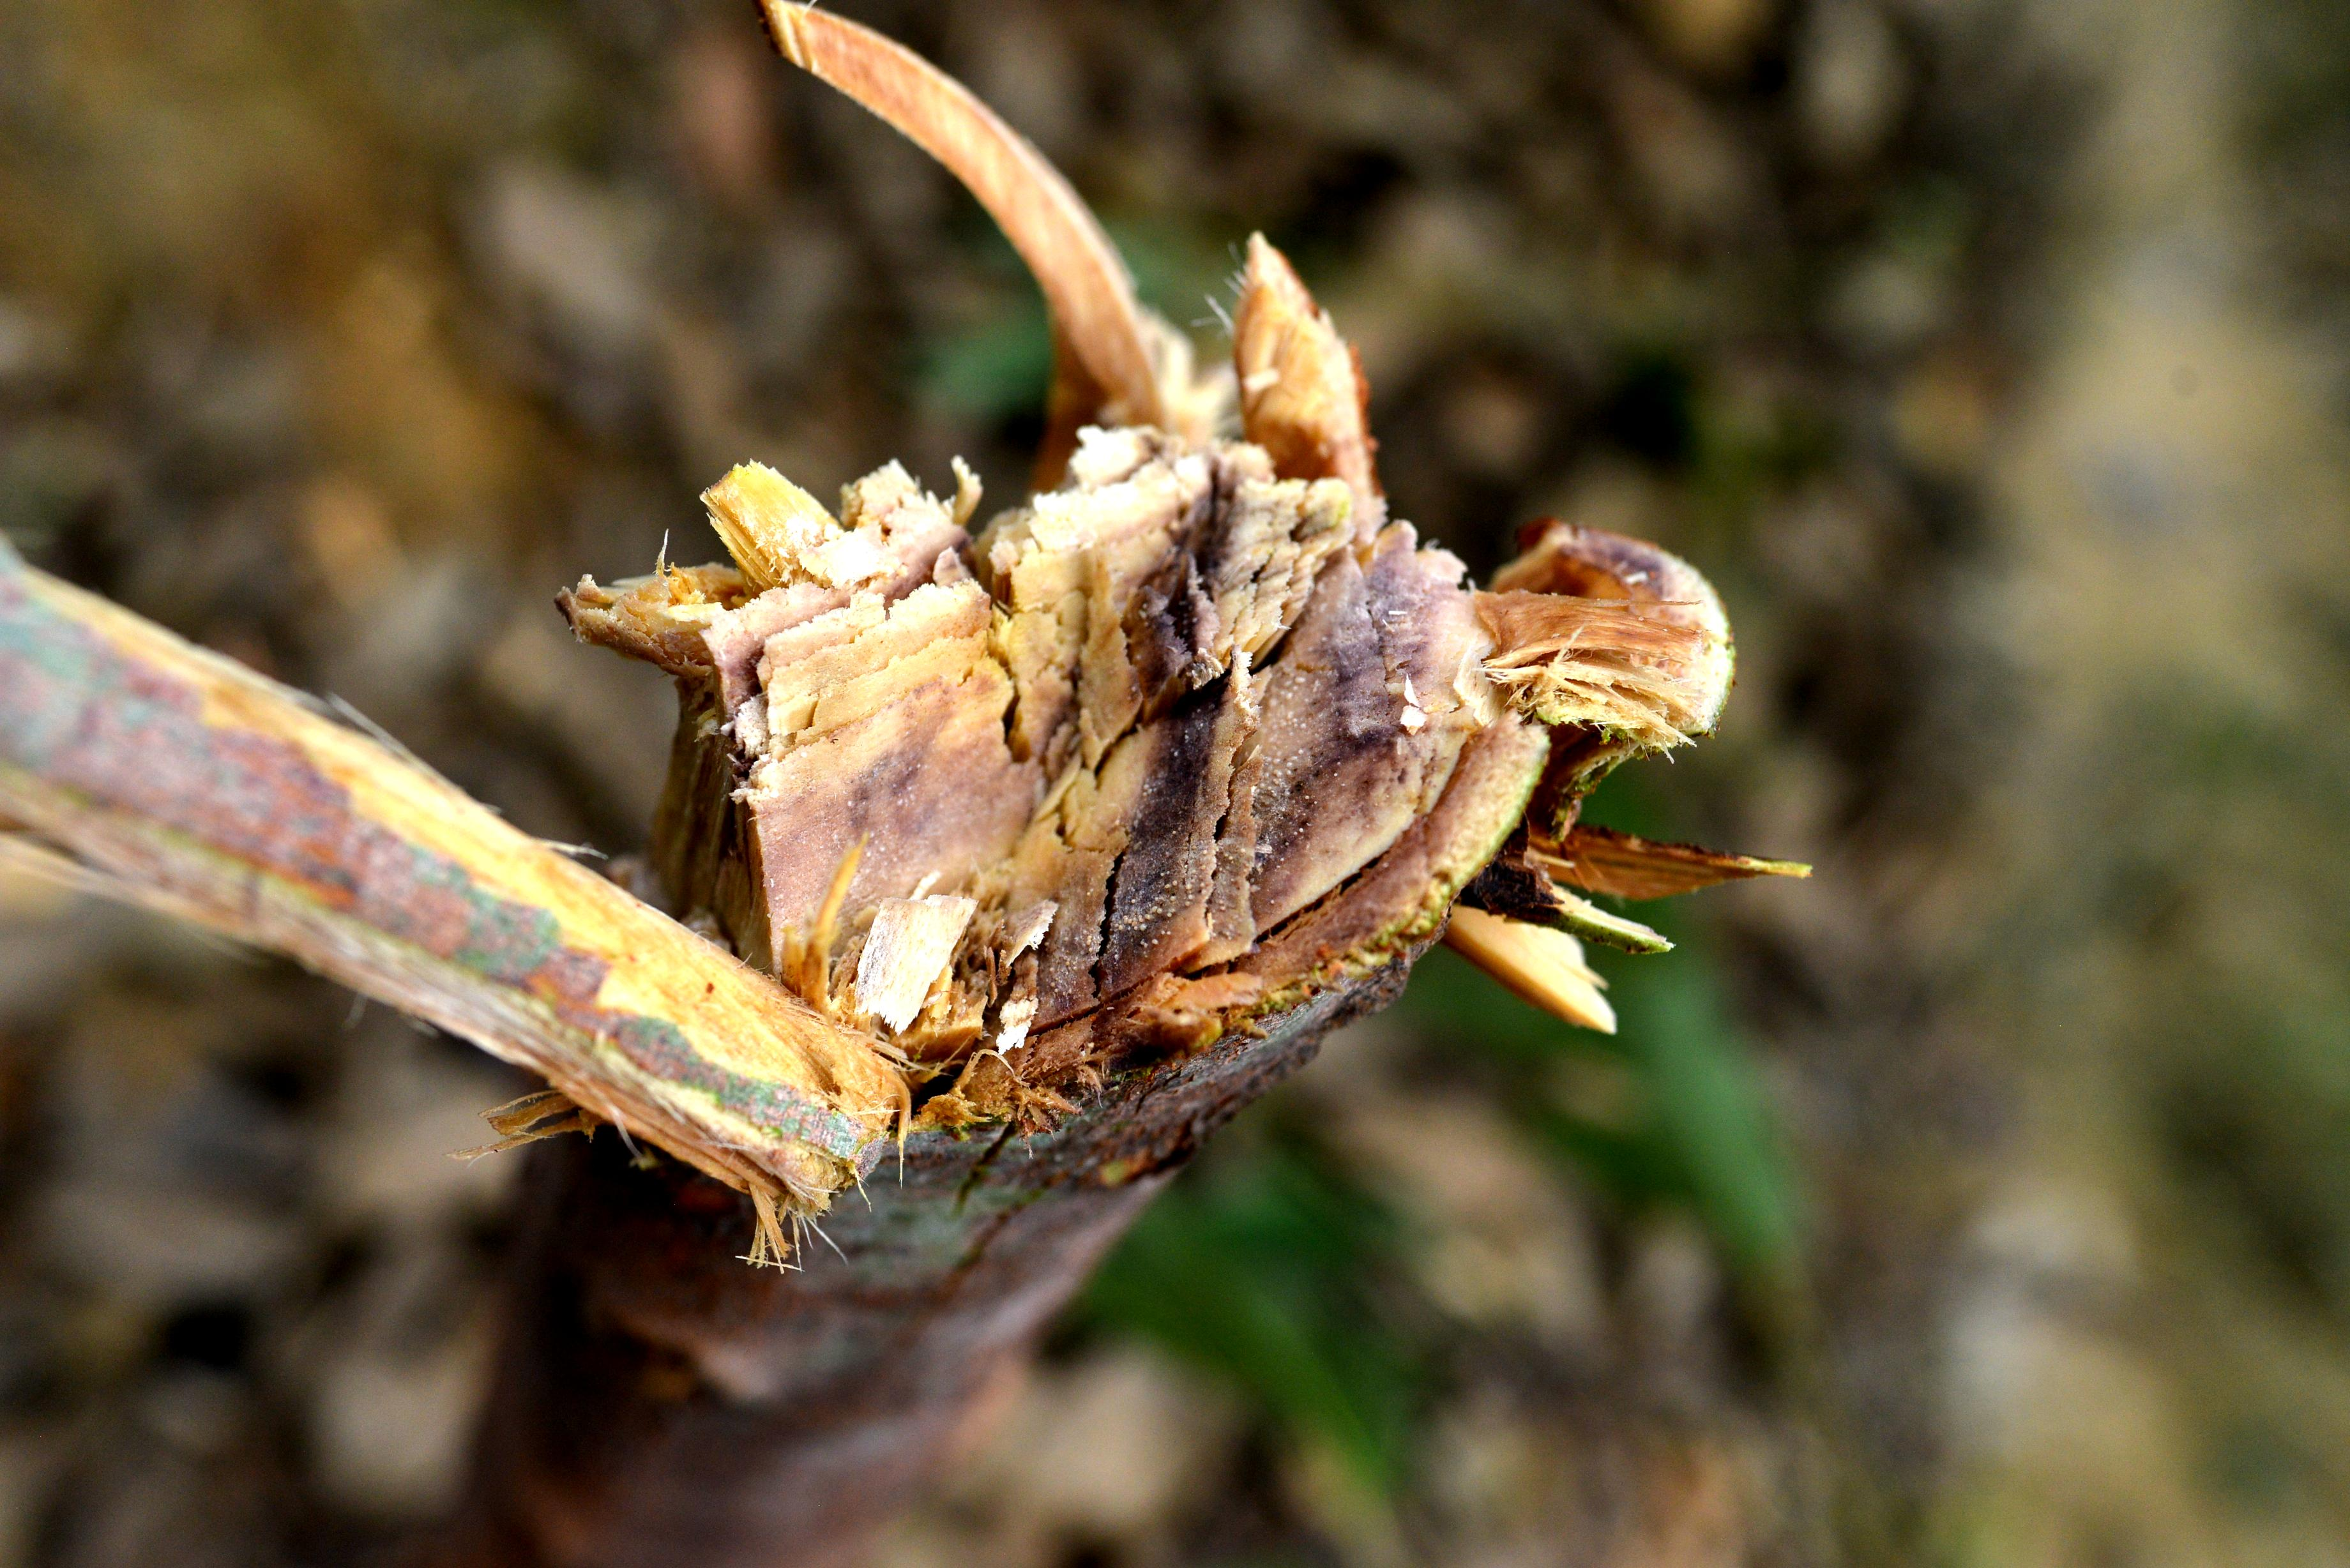Ralstonia: (1043, 744, 1206, 975), (793, 744, 952, 896), (1246, 635, 1339, 864)
